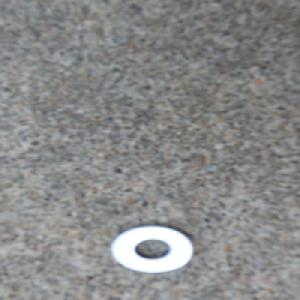Washer: (109, 224, 195, 275)
